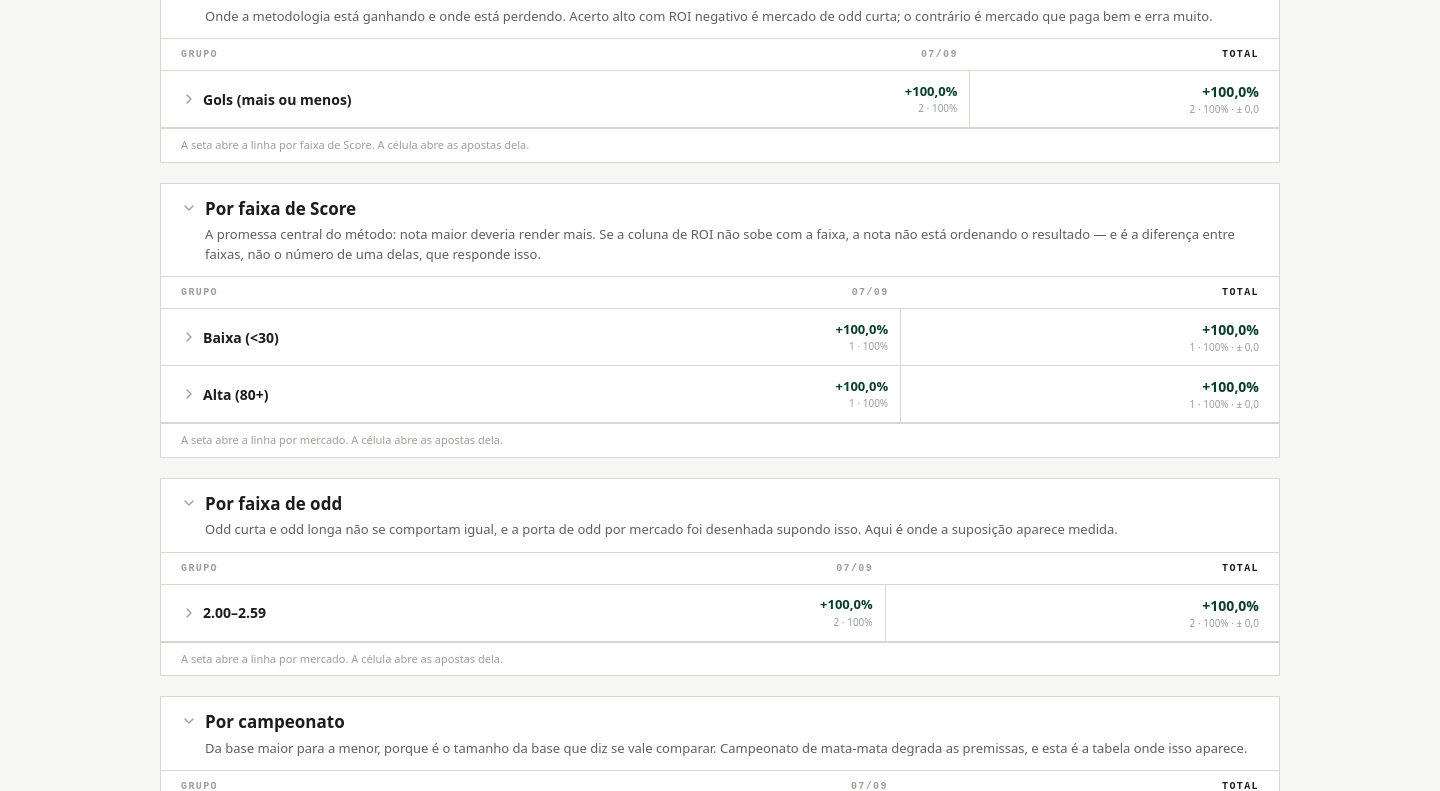
Test: o desdobramento dentro da linha › e a linha da faixa abre por mercado — o mesmo cruzamento pelo outro lado
This screenshot has width=1440, height=791.
(page scrolled)
Click the button named "abrir alta (80+) por mercado".
click(189, 394)  # box x1=181 y1=386 x2=197 y2=402
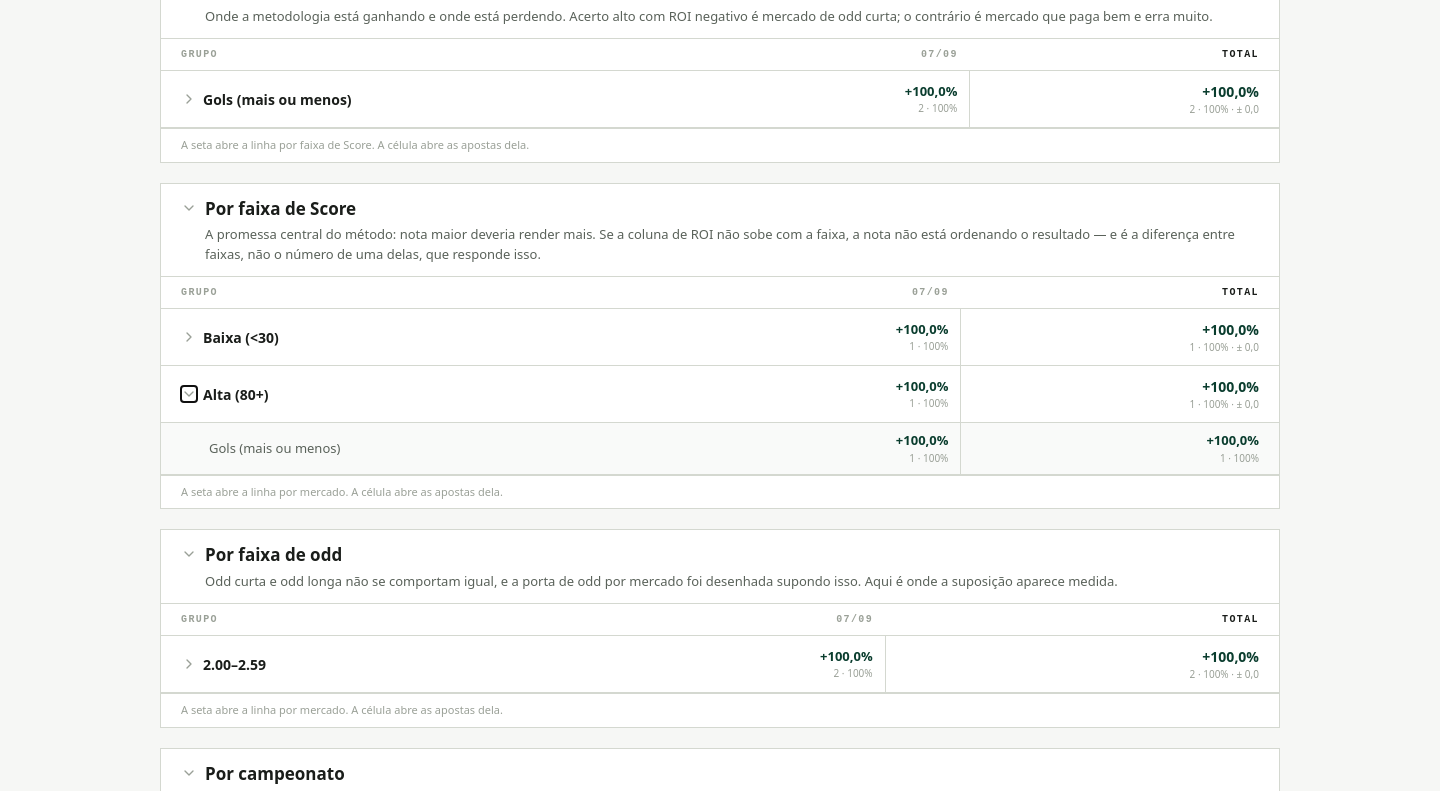
Now the text "Por faixa de Score" shows "Gols (mais ou menos)", box x1=209 y1=438 x2=340 y2=456
